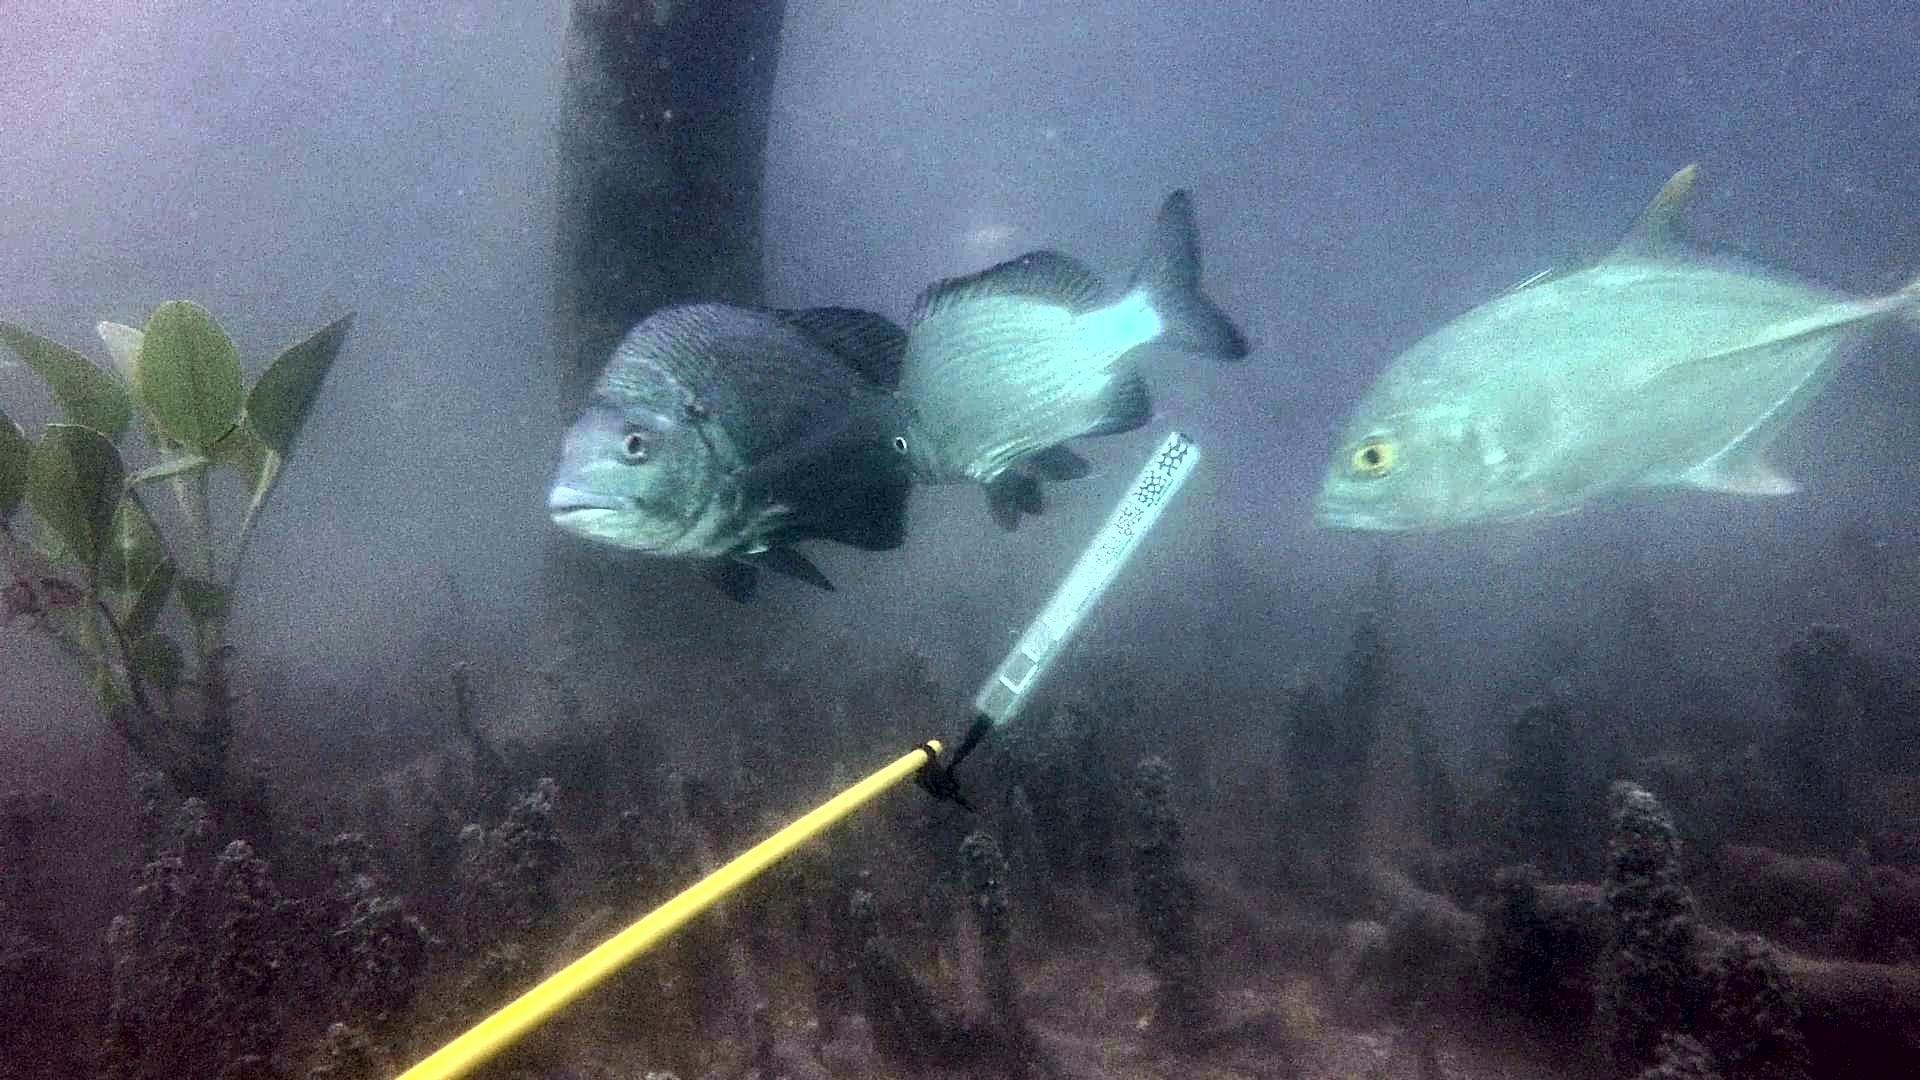acanthopagrus palmaris: (543, 278, 1045, 600), (883, 180, 1264, 534)
caranx: (1306, 148, 1920, 550)
